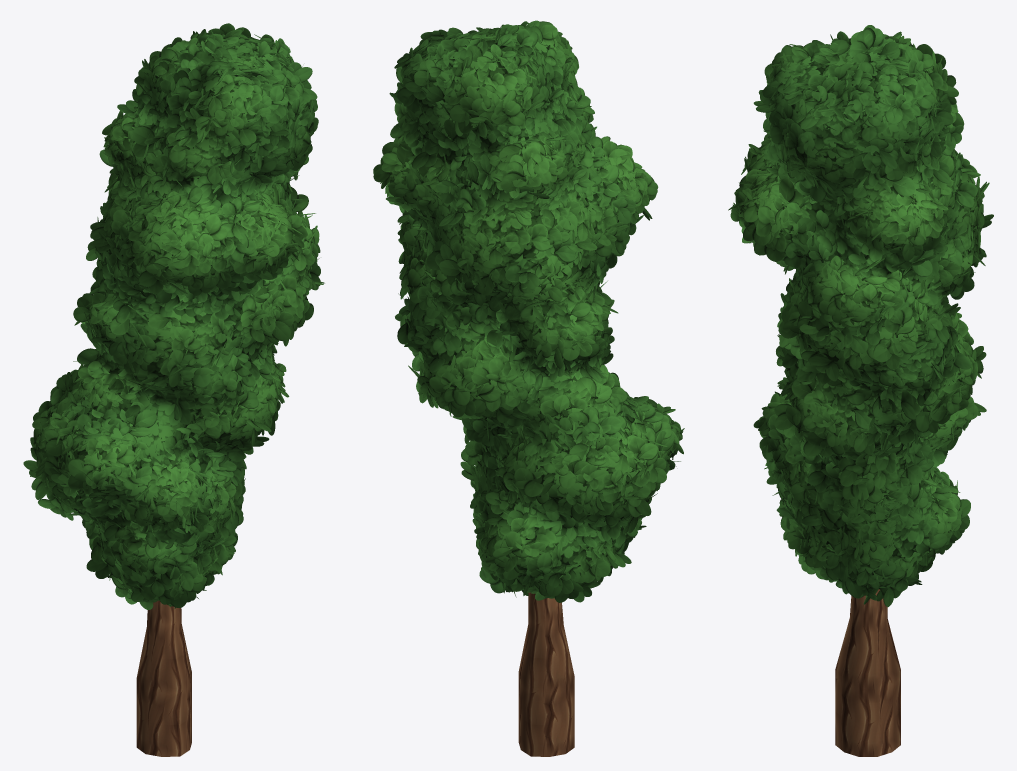
File: cypress_v2.glb
The picture shows the model from 3 angles, left to right: view 1: azimuth 30°, elevation 25°; view 2: azimuth 150°, elevation 25°; view 3: azimuth 270°, elevation 25°; orthographic projection. The views are drawn at different scales.
Parts seen in each view (by area): view 1: cypress_v2_leaves_LOD0, cypress_v2_volume_LOD0, cypress_v2_trunk_LOD0; view 2: cypress_v2_leaves_LOD0, cypress_v2_volume_LOD0, cypress_v2_trunk_LOD0; view 3: cypress_v2_leaves_LOD0, cypress_v2_volume_LOD0, cypress_v2_trunk_LOD0.
Part boxes in pixels (x1=…): cypress_v2_leaves_LOD0: x1=23, y1=23, x2=324, y2=609; cypress_v2_volume_LOD0: x1=35, y1=37, x2=313, y2=587; cypress_v2_trunk_LOD0: x1=136, y1=600, x2=191, y2=756; cypress_v2_leaves_LOD0: x1=373, y1=20, x2=684, y2=602; cypress_v2_volume_LOD0: x1=389, y1=33, x2=674, y2=582; cypress_v2_trunk_LOD0: x1=518, y1=592, x2=574, y2=756; cypress_v2_leaves_LOD0: x1=728, y1=25, x2=993, y2=606; cypress_v2_volume_LOD0: x1=738, y1=45, x2=979, y2=588; cypress_v2_trunk_LOD0: x1=835, y1=589, x2=900, y2=756.
Size of what is drawn, in the model's own units: 5.11 by 12.06 by 4.12.
3 materials, 3 textured.
